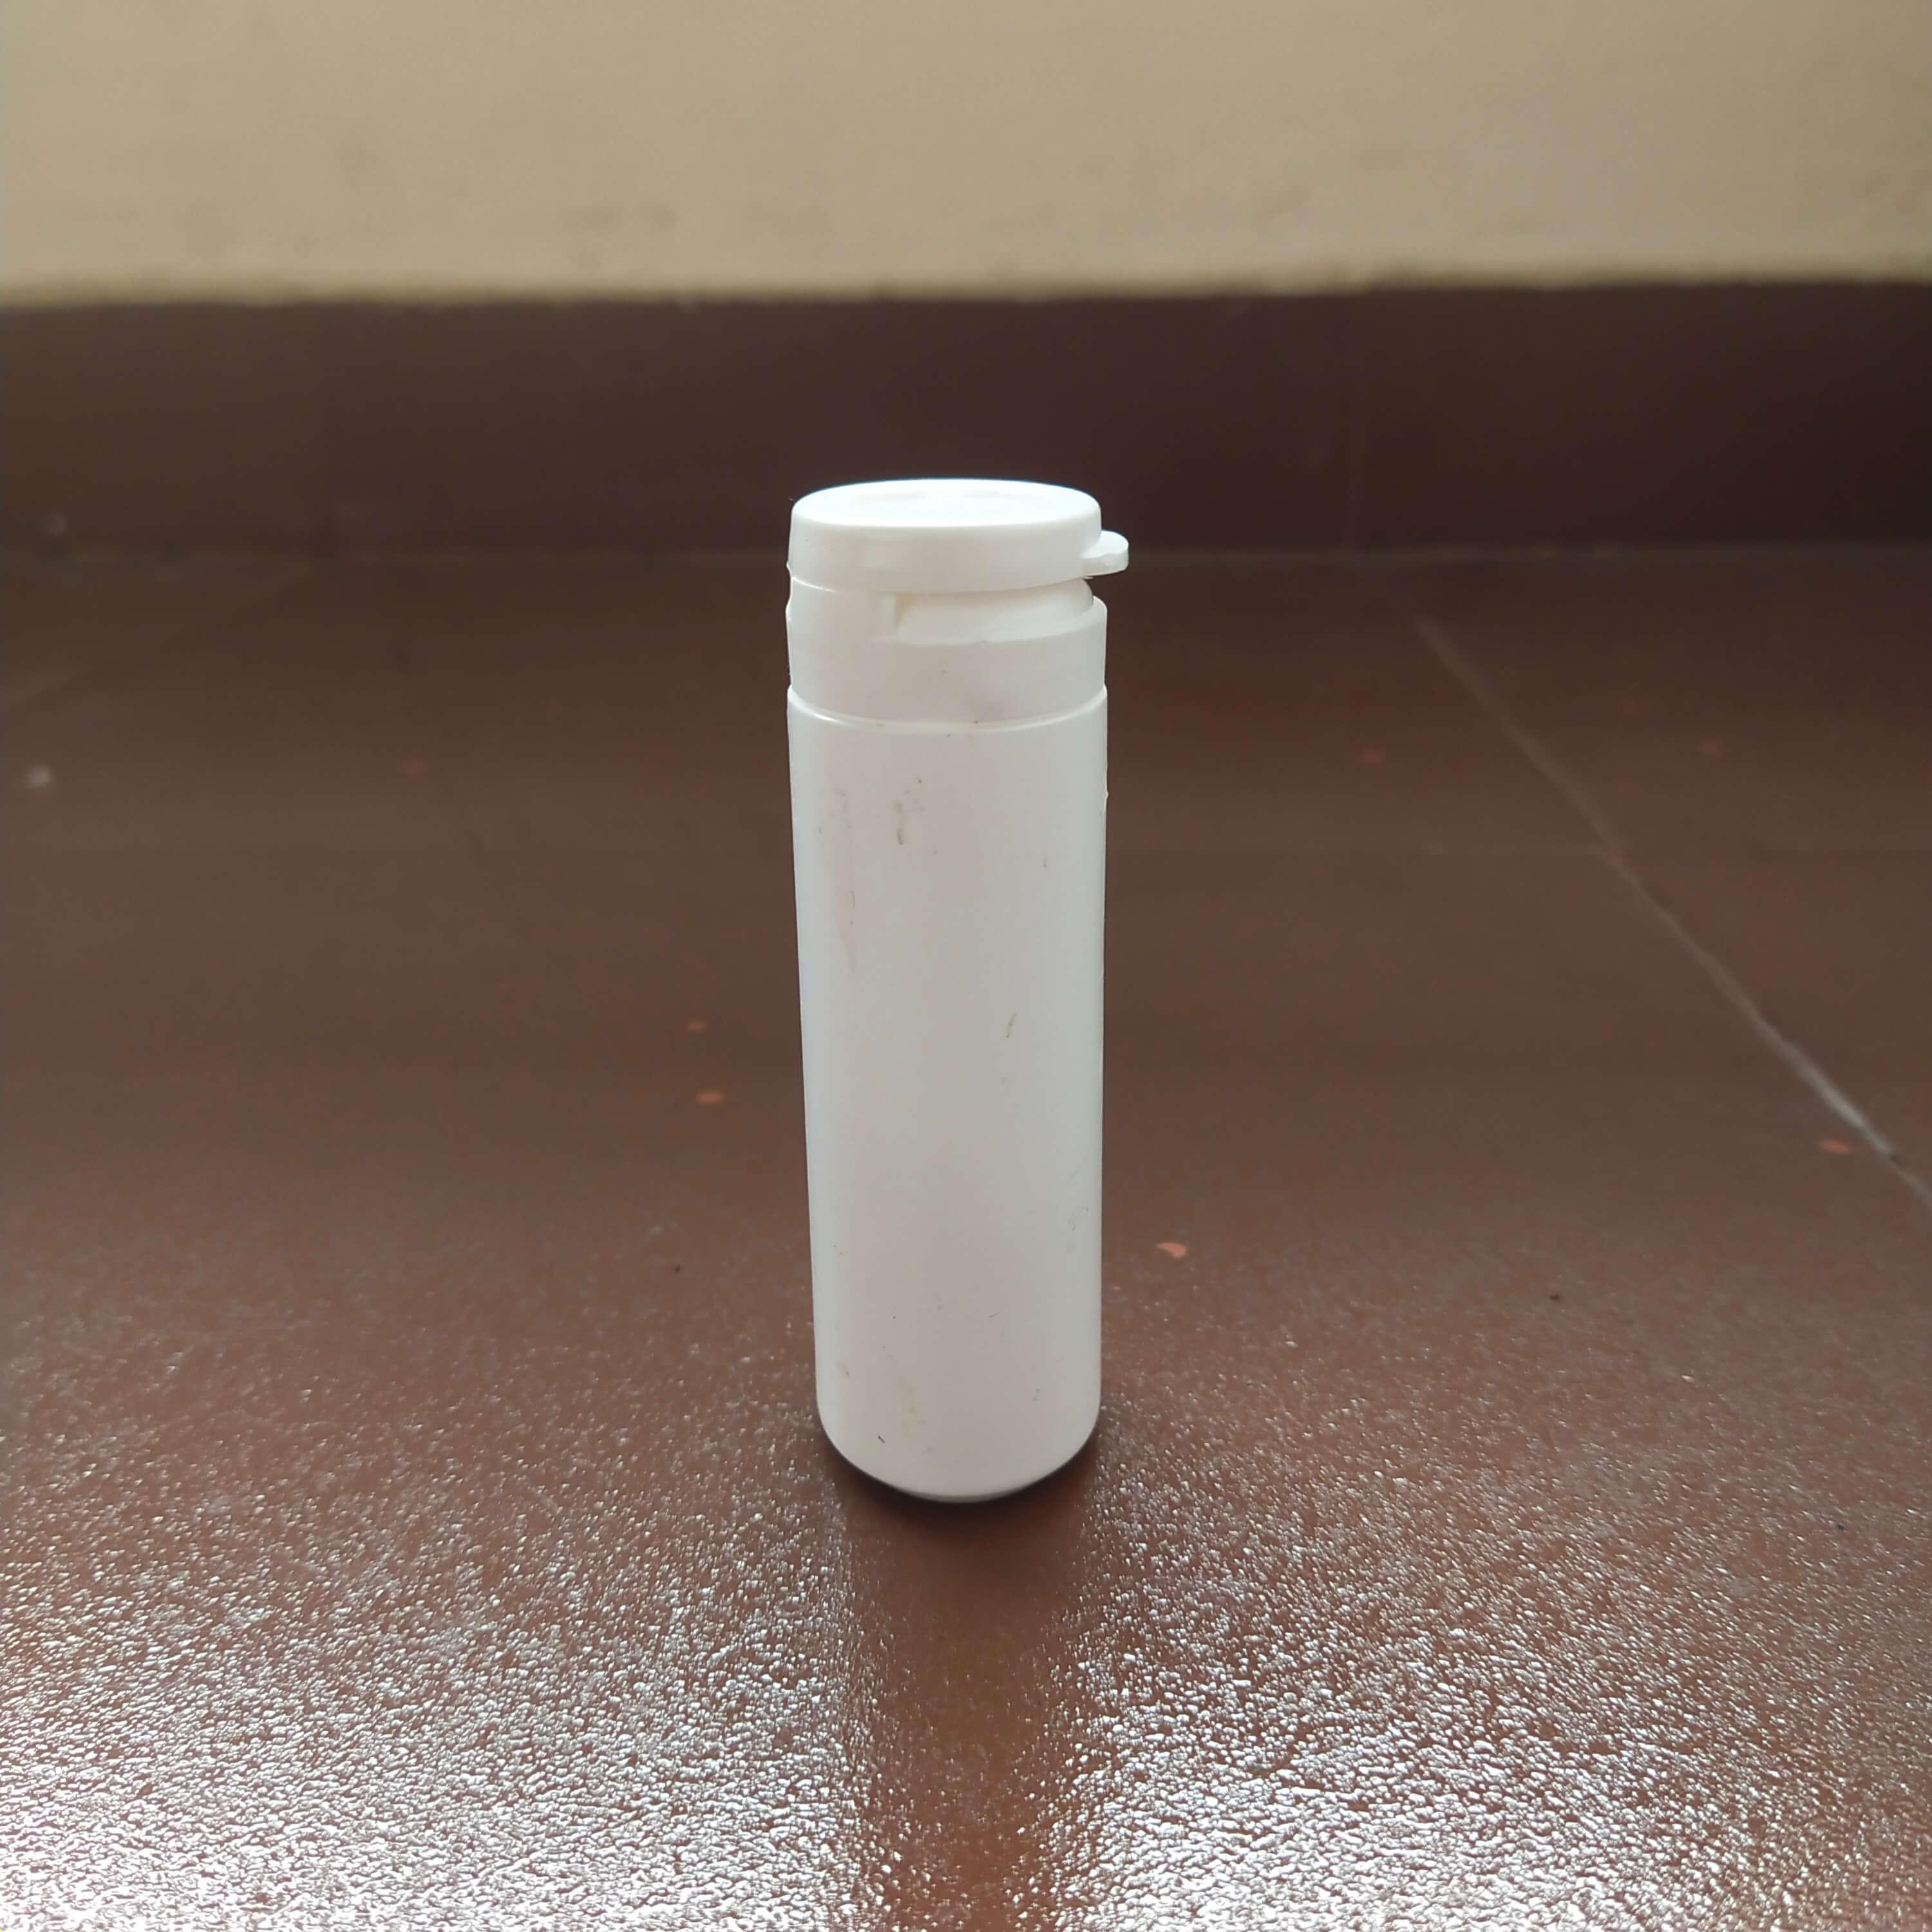plastic box: (715, 435, 1184, 1537)
